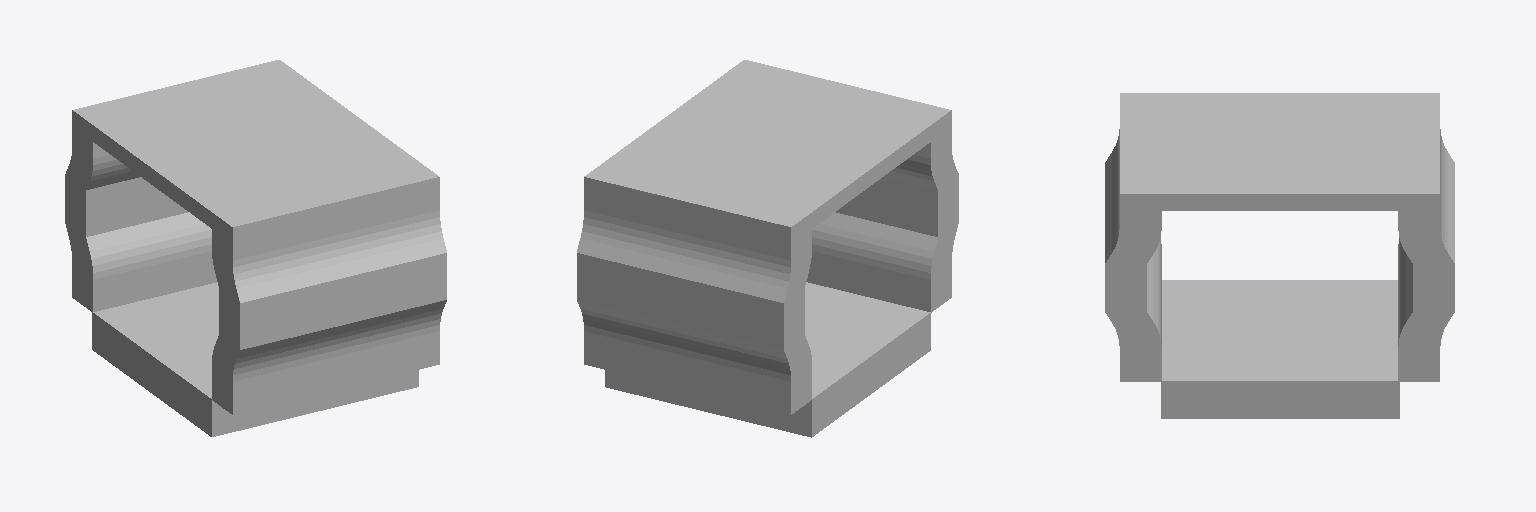
File: modulo_recto.obj
3 views of the same model, side by side, from view 1: azimuth 30°, elevation 25°; view 2: azimuth 150°, elevation 25°; view 3: azimuth 270°, elevation 25° (orthographic).
Visible parts, largest first — view 1: modulo_recto2; view 2: modulo_recto2; view 3: modulo_recto2.
Boxes of the visible parts, <box> form: modulo_recto2: <box>65,60,446,436</box>; modulo_recto2: <box>577,60,958,437</box>; modulo_recto2: <box>1105,93,1454,418</box>.
Bounding box in the file's own units: 570 × 590 × 833.